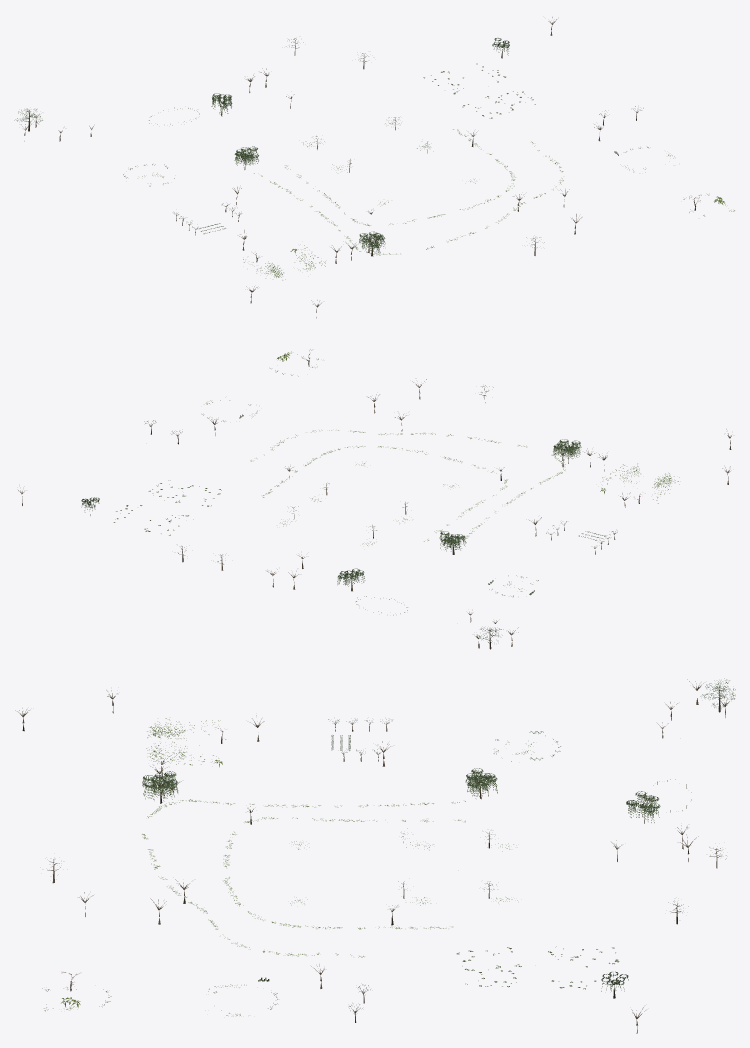
The model's file is overview.glb.
3 renders of one model, top to bottom at view 1: azimuth 30°, elevation 25°; view 2: azimuth 150°, elevation 25°; view 3: azimuth 270°, elevation 25°, orthographic. The views are drawn at different scales.
Parts seen in each view (by area): view 1: Mobile_landscape_plants; view 2: Mobile_landscape_plants; view 3: Mobile_landscape_plants, Mobile_landscape_botanical_bamboo.
Part boxes in pixels (x1,y1,x2,y2): Mobile_landscape_plants: [21, 17, 603, 318]; Mobile_landscape_plants: [18, 379, 731, 646]; Mobile_landscape_plants: [15, 679, 703, 1033]; Mobile_landscape_botanical_bamboo: [142, 799, 465, 957].
Bounding box in the file's own units: 281 × 17.29 × 254.
Materials: 5 (4 with a texture image).
